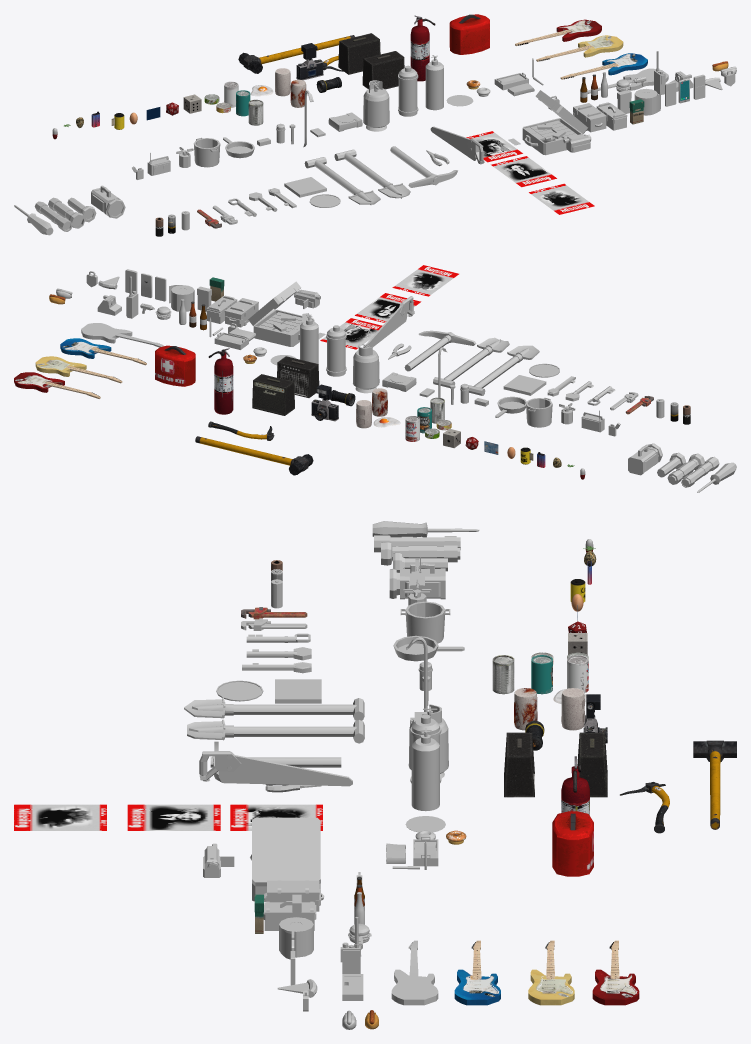
File: MISC_2025.fbx
3 views of the same model, one above another, from view 1: azimuth 30°, elevation 25°; view 2: azimuth 150°, elevation 25°; view 3: azimuth 270°, elevation 25° (orthographic). The views are drawn at different scales.
Visible parts, largest first — view 1: Money_Case, Medkit, Amplifier_Variant_1, Amplifier_Variant_2, Gas_V3, Poster_Missing_Variant_3, Poster_Missing_Variant_2, Extinguisher, Gas_V2, Gas_V1, Sledgehammer, Shovel_2 (+25 smaller); view 2: Money_Case, Medkit, Amplifier_Variant_1, Amplifier_Variant_2, Extinguisher, Poster_Missing_Variant_3, Gas_V3, Sledgehammer, Gas_V2, Shovel_2, Guitar_Variant_3, Poster_Missing_Variant_2 (+25 smaller); view 3: Money_Case, Saw, Medkit, Poster_Missing_Variant_2, Poster_Missing_Variant_3, Shovel_2, Shovel_1, Gas_V1, Amplifier_Variant_2, Amplifier_Variant_1, Guitar_Variant_3, Guitar_Variant_1 (+21 smaller).
Boxes of the visible parts, left/top/right/bottom form: Money_Case: left=522, top=90, right=587, bottom=155; Medkit: left=449, top=14, right=489, bottom=54; Amplifier_Variant_1: left=338, top=33, right=380, bottom=74; Amplifier_Variant_2: left=362, top=51, right=404, bottom=89; Gas_V3: left=363, top=80, right=389, bottom=131; Poster_Missing_Variant_3: left=529, top=183, right=594, bottom=214; Poster_Missing_Variant_2: left=491, top=156, right=556, bottom=187; Extinguisher: left=410, top=15, right=435, bottom=81; Gas_V2: left=398, top=65, right=418, bottom=116; Gas_V1: left=425, top=55, right=443, bottom=110; Sledgehammer: left=238, top=35, right=354, bottom=73; Shovel_2: left=334, top=149, right=410, bottom=198; Money_Case: left=248, top=281, right=314, bottom=346; Medkit: left=155, top=345, right=195, bottom=386; Amplifier_Variant_1: left=252, top=374, right=294, bottom=415; Amplifier_Variant_2: left=277, top=356, right=319, bottom=397; Extinguisher: left=208, top=348, right=233, bottom=414; Poster_Missing_Variant_3: left=392, top=265, right=458, bottom=296; Gas_V3: left=353, top=343, right=379, bottom=393; Sledgehammer: left=195, top=436, right=313, bottom=475; Gas_V2: left=326, top=325, right=346, bottom=376; Shovel_2: left=433, top=337, right=509, bottom=387; Guitar_Variant_3: left=35, top=356, right=122, bottom=383; Poster_Missing_Variant_2: left=355, top=293, right=421, bottom=322; Money_Case: left=250, top=817, right=320, bottom=901; Saw: left=199, top=751, right=352, bottom=786; Medkit: left=552, top=811, right=593, bottom=876; Poster_Missing_Variant_2: left=127, top=804, right=220, bottom=830; Poster_Missing_Variant_3: left=14, top=804, right=106, bottom=830; Shovel_2: left=187, top=719, right=364, bottom=743; Shovel_1: left=184, top=697, right=364, bottom=720; Gas_V1: left=411, top=728, right=439, bottom=811; Amplifier_Variant_2: left=504, top=732, right=534, bottom=797; Amplifier_Variant_1: left=577, top=732, right=607, bottom=797; Guitar_Variant_3: left=528, top=940, right=574, bottom=1005; Guitar_Variant_1: left=391, top=940, right=438, bottom=1005.
Size of the model in its own units: 3817 by 391 by 2317.
